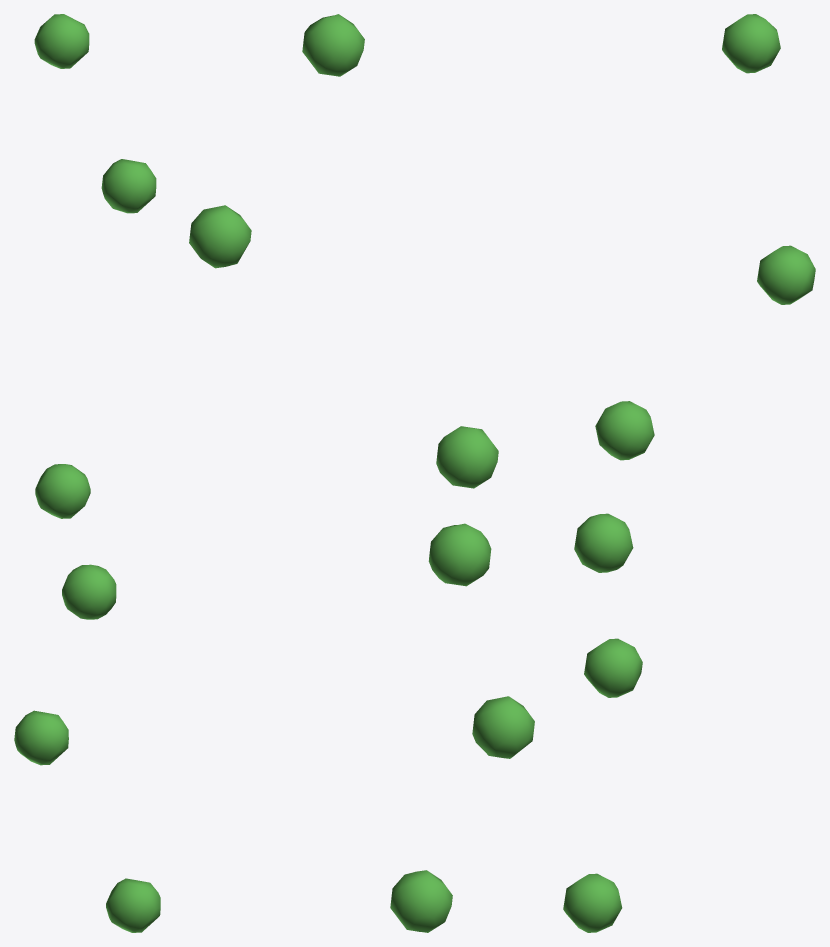
The model's file is linfatico-anterior-inferior-jugular-nodes-l.glb.
3 views of the same model, side by side, from view 1: azimuth 30°, elevation 25°; view 2: azimuth 150°, elevation 25°; view 3: azimuth 270°, elevation 25° (orthographic). The views are drawn at different scales.
Visible parts, largest first — view 1: Anterior inferior jugular nodes.l; view 2: Anterior inferior jugular nodes.l; view 3: Anterior inferior jugular nodes.l.
Part boxes in pixels (box(x1,y1,x2,y2)): Anterior inferior jugular nodes.l: box(14, 14, 160, 932); Anterior inferior jugular nodes.l: box(189, 14, 534, 932); Anterior inferior jugular nodes.l: box(563, 14, 815, 932).
Size of the model in its own units: 0.0115 by 0.0436 by 0.0109.
